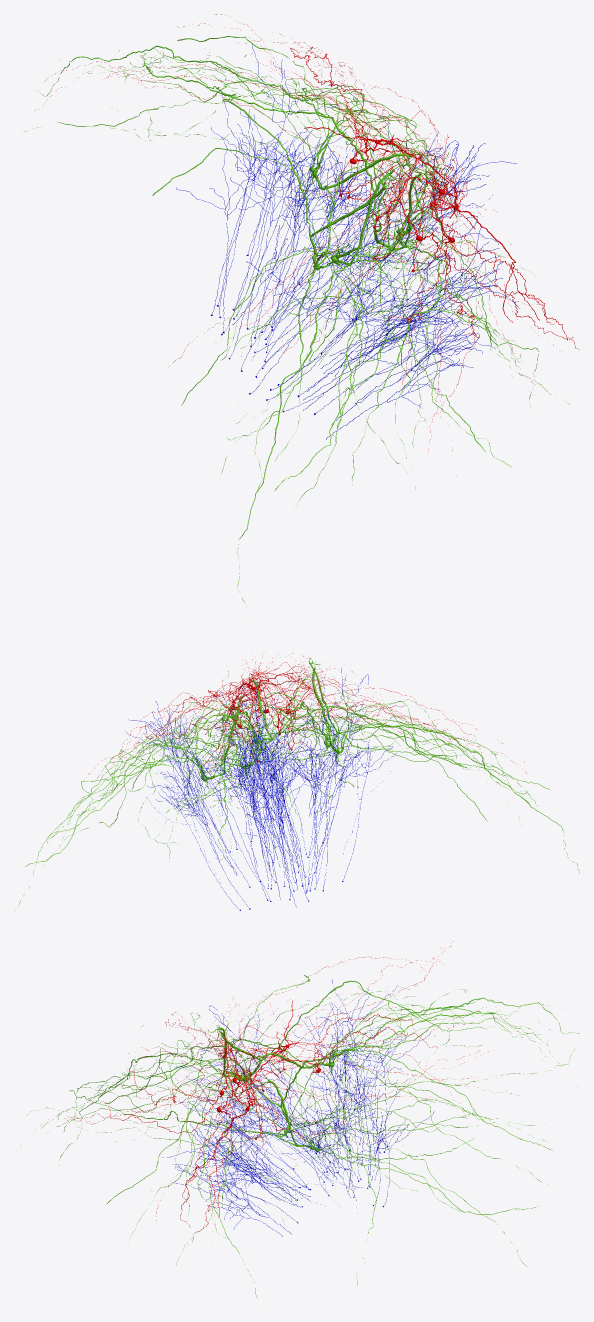
The model's file is olfactory-bulb.glb.
3 views of the same model, one above another, from view 1: azimuth 30°, elevation 25°; view 2: azimuth 150°, elevation 25°; view 3: azimuth 270°, elevation 25° (orthographic). The views are drawn at different scales.
Visible parts, largest first — view 1: GC4[18].soma_GC4[18].soma_0, MC5[6].soma_MC5[6].soma_0, TC5[10].soma_TC5[10].soma_0; view 2: GC4[18].soma_GC4[18].soma_0, MC5[6].soma_MC5[6].soma_0, TC5[10].soma_TC5[10].soma_0; view 3: MC5[6].soma_MC5[6].soma_0, GC4[18].soma_GC4[18].soma_0, TC5[10].soma_TC5[10].soma_0.
Part boxes in pixels (x1=…): GC4[18].soma_GC4[18].soma_0: x1=176, y1=44, x2=519, y2=439; MC5[6].soma_MC5[6].soma_0: x1=25, y1=36, x2=569, y2=618; TC5[10].soma_TC5[10].soma_0: x1=34, y1=14, x2=579, y2=450; GC4[18].soma_GC4[18].soma_0: x1=125, y1=668, x2=396, y2=910; MC5[6].soma_MC5[6].soma_0: x1=14, y1=658, x2=579, y2=911; TC5[10].soma_TC5[10].soma_0: x1=88, y1=653, x2=526, y2=778; MC5[6].soma_MC5[6].soma_0: x1=41, y1=972, x2=579, y2=1307; GC4[18].soma_GC4[18].soma_0: x1=162, y1=980, x2=434, y2=1236; TC5[10].soma_TC5[10].soma_0: x1=35, y1=941, x2=530, y2=1241.
Bounding box in the file's own units: 6.15 × 4.18 × 8.11.
